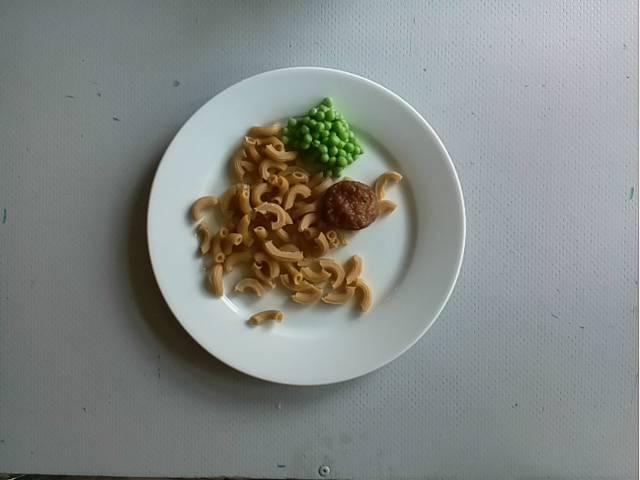Full grain pasta + peas + meatball: (194, 99, 401, 331)
